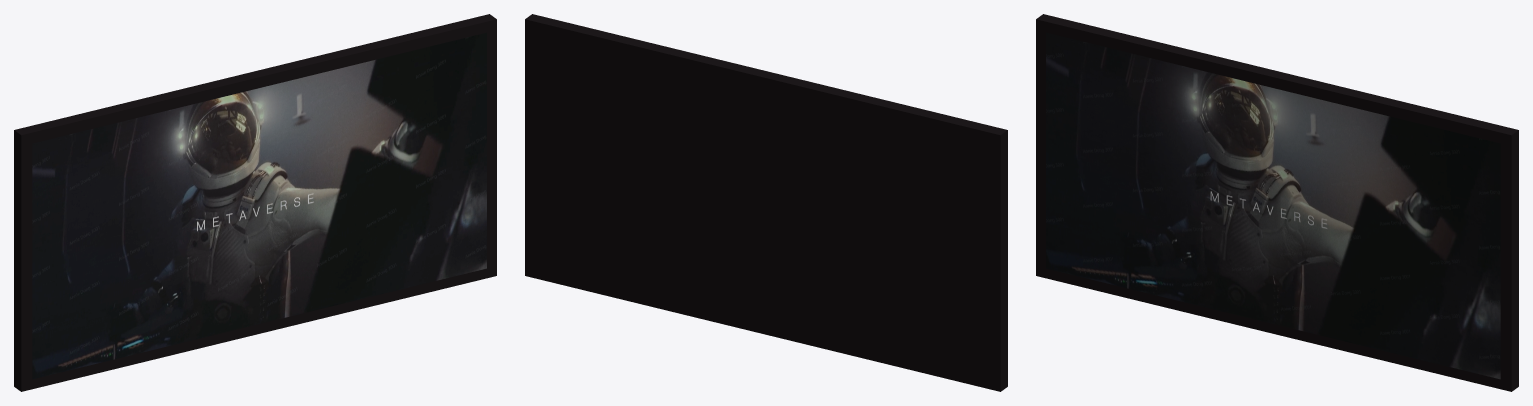
The model's file is M_xuanchuanhua02.FBX.
3 renders of one model, left to right at view 1: azimuth 30°, elevation 25°; view 2: azimuth 150°, elevation 25°; view 3: azimuth 330°, elevation 25°, orthographic.
Visible parts, largest first — view 1: M_xuanchuanhua02_02, M_xuanchuanhua02_01; view 2: M_xuanchuanhua02_01; view 3: M_xuanchuanhua02_02, M_xuanchuanhua02_01.
Part boxes in pixels (x1,y1,x2,y2): M_xuanchuanhua02_02: (32, 32, 486, 379); M_xuanchuanhua02_01: (14, 14, 496, 391); M_xuanchuanhua02_01: (525, 14, 1007, 391); M_xuanchuanhua02_02: (1046, 32, 1500, 379); M_xuanchuanhua02_01: (1036, 14, 1518, 391).
Bounding box in the file's own units: 9.77 × 5.04 × 0.276.
